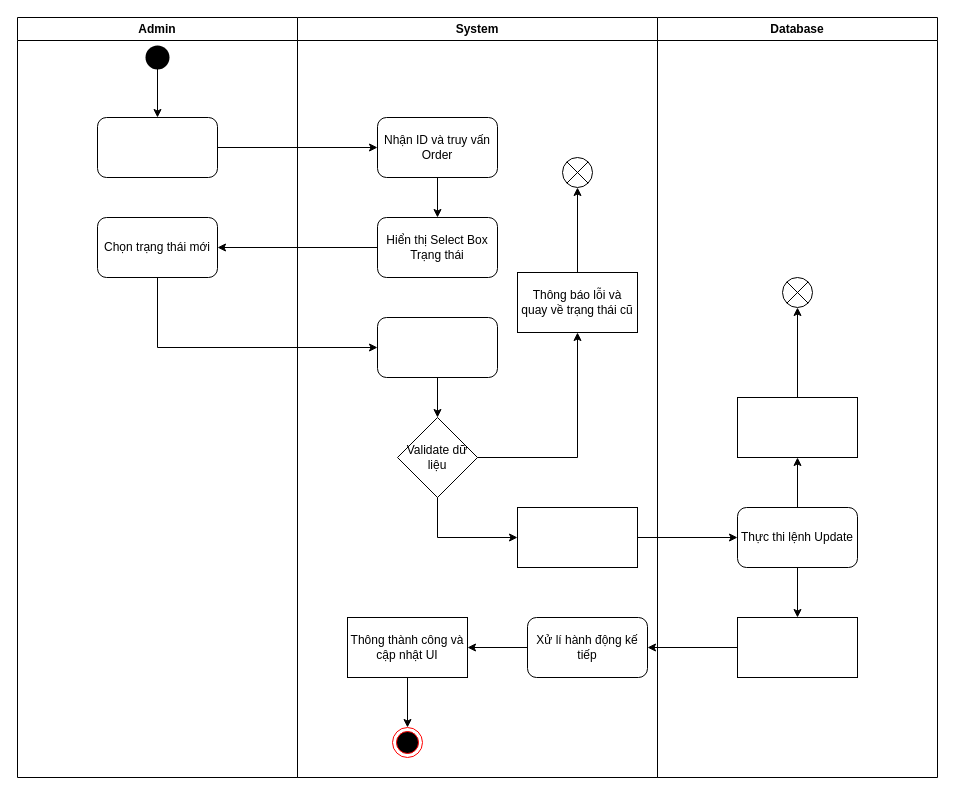
This 955x795 diagram has some shape labels left out. Here are the shapes that lost their labels. From the top down, the centre of each, then its label:
[157,147]: Nhấn "Trang quản lý đơn hàng"
[437,347]: Nhận yêu cầu cập nhật
[797,427]: Thông báo lỗi DB / Quay về trạng thái cũ
[577,537]: Cập nhật trạng thái
[797,647]: Thông báo cập nhật trạng thái thành công
